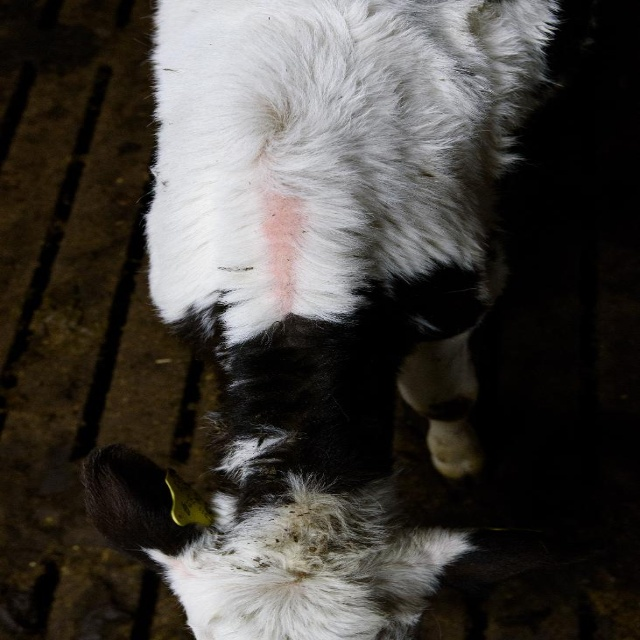Goat: (58, 0, 576, 640)
